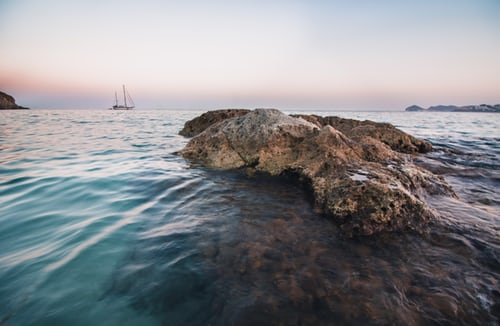yacht: (105, 82, 139, 113)
